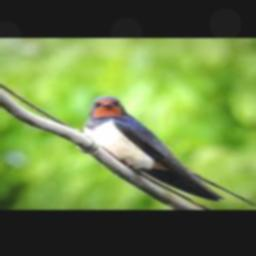Swallow: (83, 95, 256, 207)
